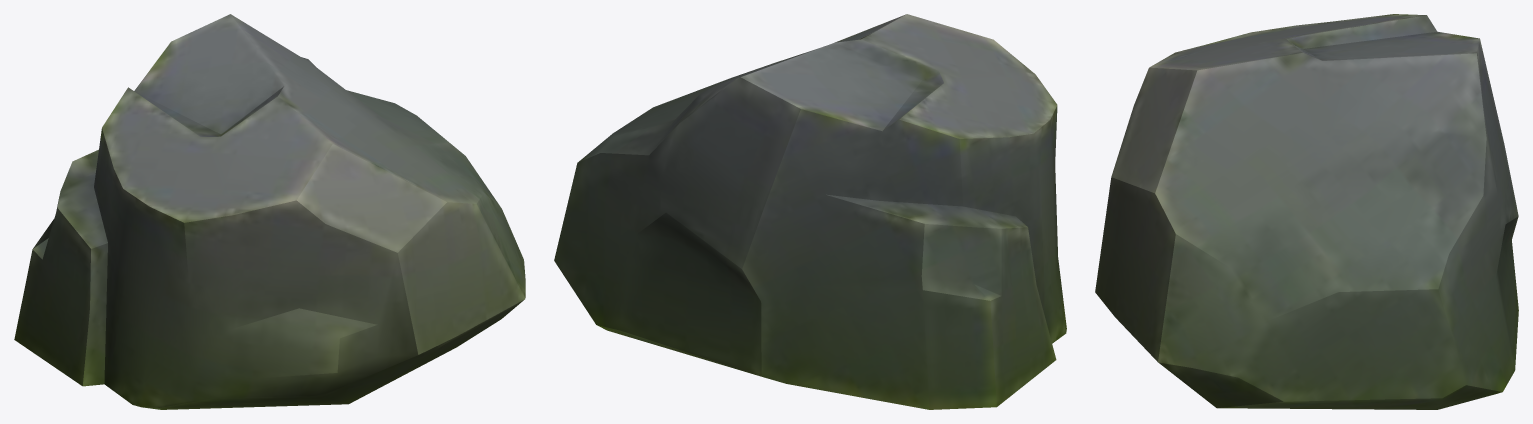
Rendered from Rock_Medium_2.glb.
The picture shows the model from 3 angles, left to right: view 1: azimuth 30°, elevation 25°; view 2: azimuth 150°, elevation 25°; view 3: azimuth 270°, elevation 25°; orthographic projection. The views are drawn at different scales.
Size of the model in its own units: 3.05 by 1.9 by 2.48.
1 material, 1 textured.
